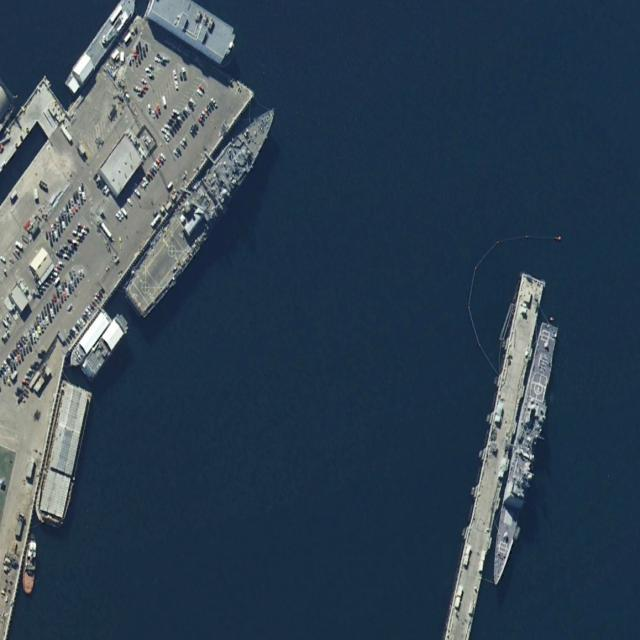Cruiser: (485, 319, 561, 590)
Landing: (120, 87, 287, 323)
